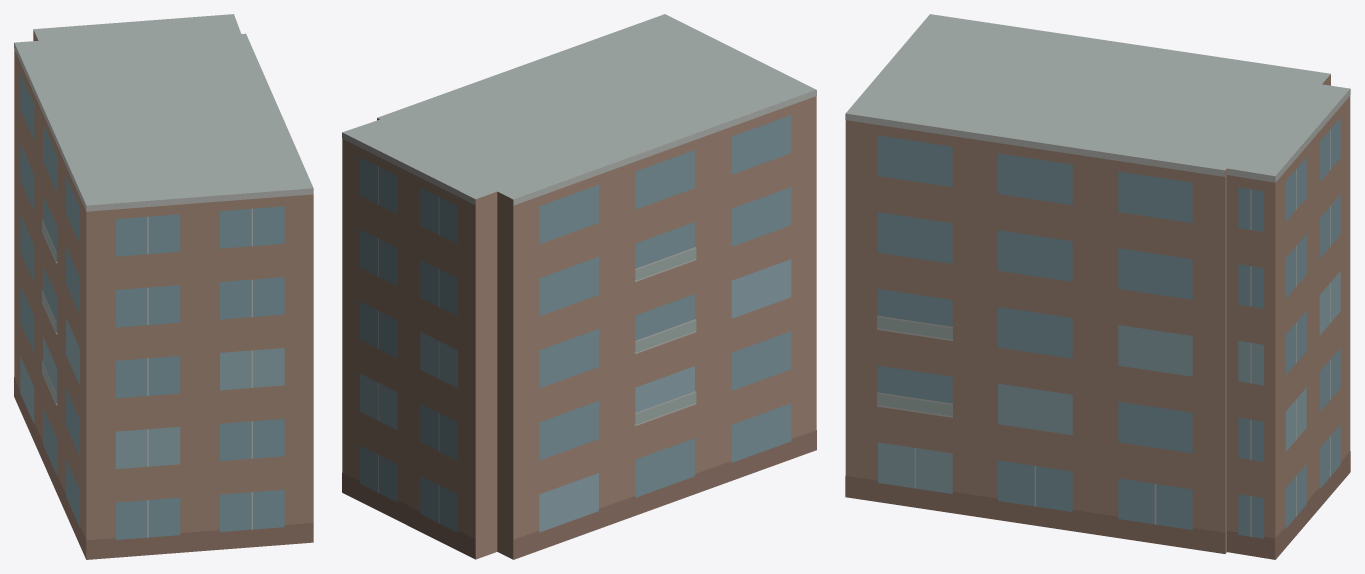
File: survey-upis-33009900.glb
The picture shows the model from 3 angles, left to right: view 1: azimuth 30°, elevation 25°; view 2: azimuth 150°, elevation 25°; view 3: azimuth 270°, elevation 25°; orthographic projection. The views are drawn at different scales.
Visible parts, largest first — view 1: survey-upis-33009900.tmp; view 2: survey-upis-33009900.tmp; view 3: survey-upis-33009900.tmp.
Boxes of the visible parts, x1,y1,x2,y2 form: survey-upis-33009900.tmp: (14, 14, 313, 559); survey-upis-33009900.tmp: (342, 14, 816, 559); survey-upis-33009900.tmp: (845, 14, 1350, 559).
Bounding box in the file's own units: 12.98 × 14.3 × 17.07.
